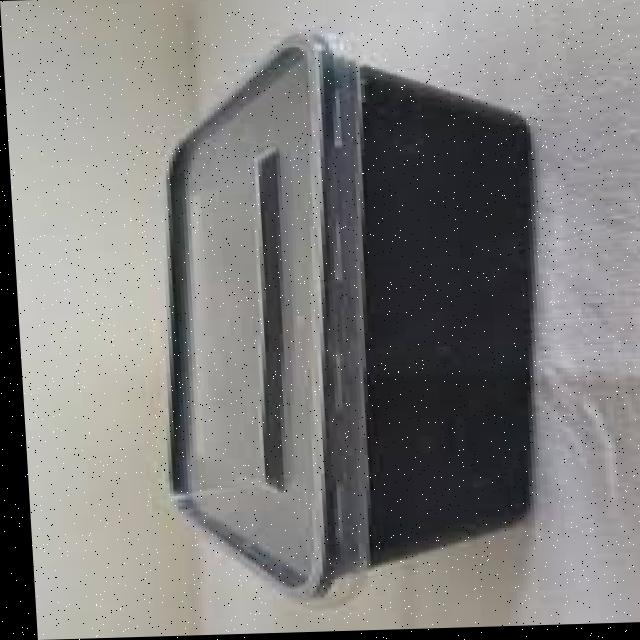disposable: (104, 26, 592, 608)
